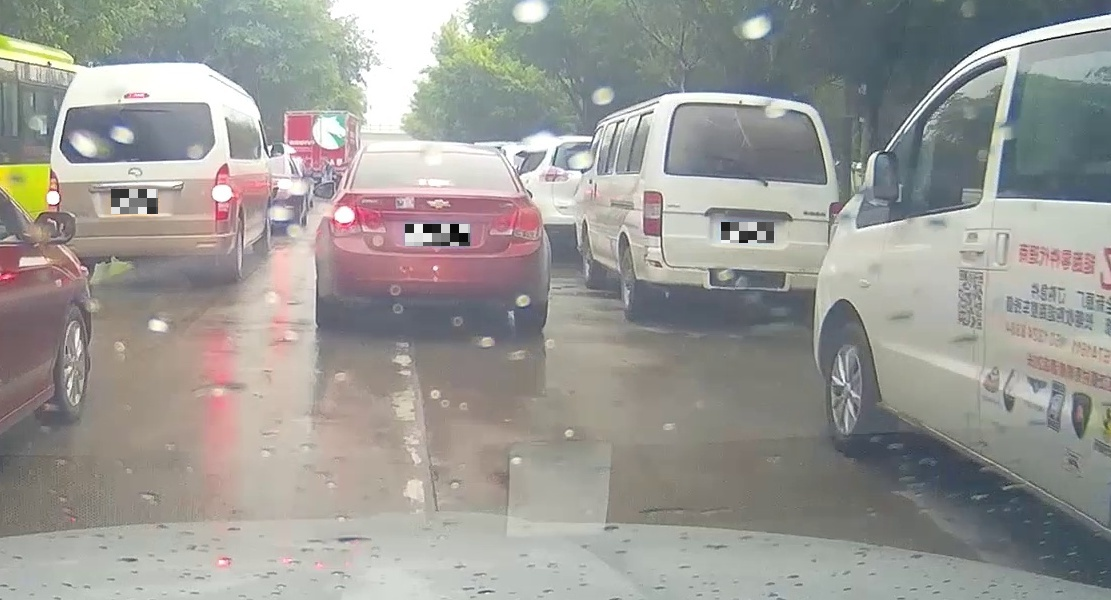L_light: (327, 203, 386, 237), (642, 190, 662, 237), (48, 167, 61, 213)
R_light: (489, 206, 543, 240), (214, 163, 231, 221), (827, 202, 841, 244)
T_light: (420, 179, 454, 187), (735, 99, 768, 107), (124, 92, 149, 99)
day-brake: (47, 63, 234, 281)
day-left: (316, 140, 551, 332)
day-no: (633, 91, 841, 323)
plate_1: (111, 189, 158, 214)
plate_2: (405, 224, 470, 246)
plate_3: (721, 222, 774, 243)
